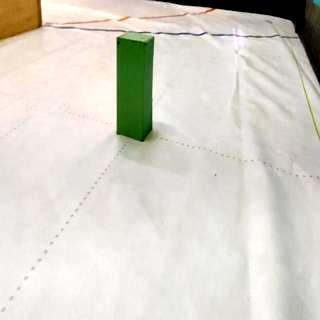greenbox: (115, 28, 155, 144)
